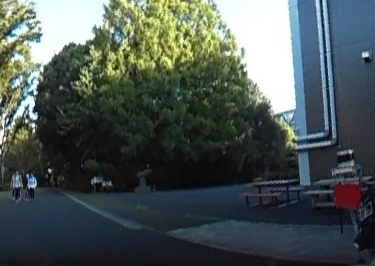person: (10, 169, 22, 195), (27, 171, 37, 198)
